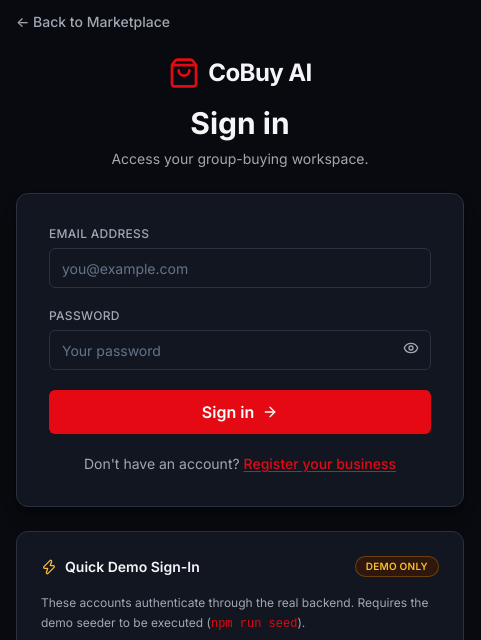
Test case: HIM-04: LoginPage › shows email validation error when email is empty
Click the button with aria-label "sign in to your account" at [240, 412], box [49,390,431,434]
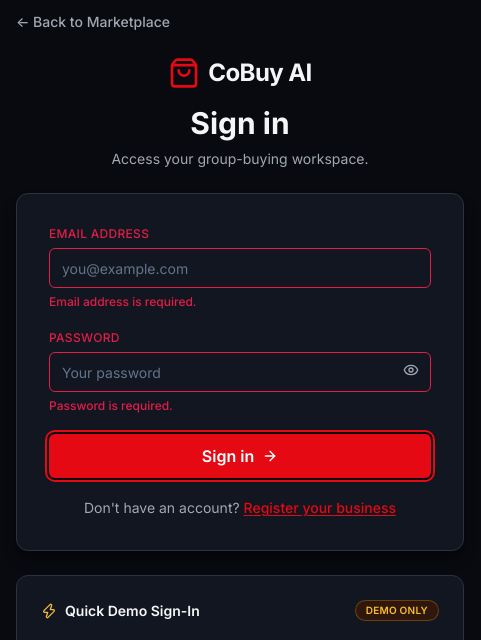
Check: the text "Email address is required." is shown, box [49,294,196,309]
